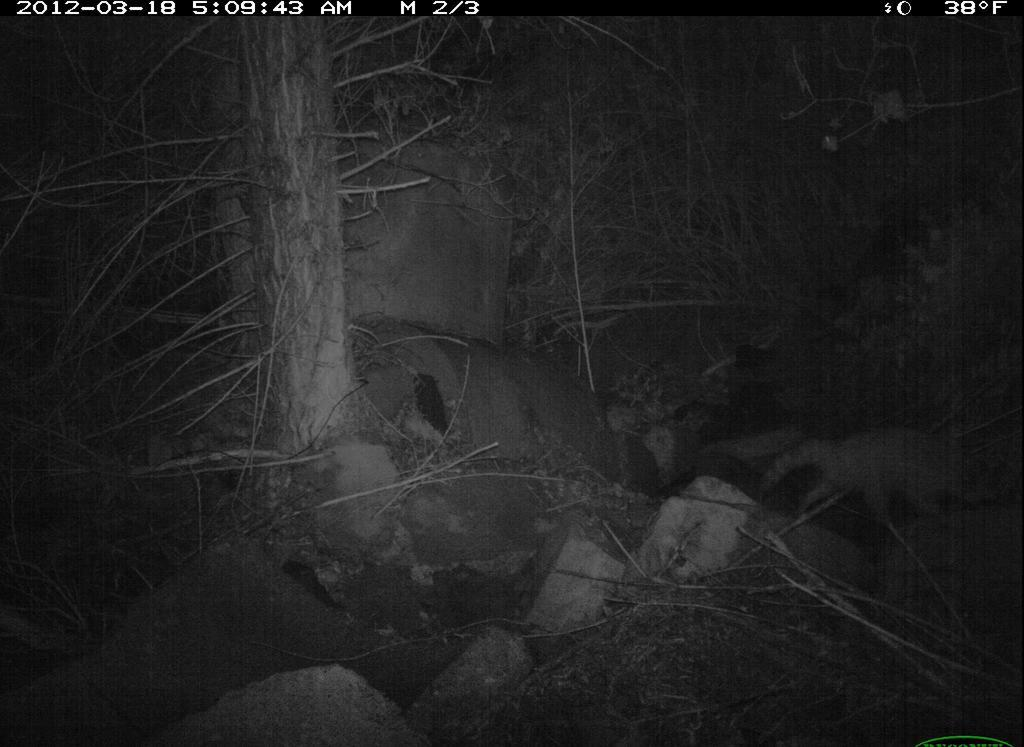raccoon: (751, 419, 1019, 542)
